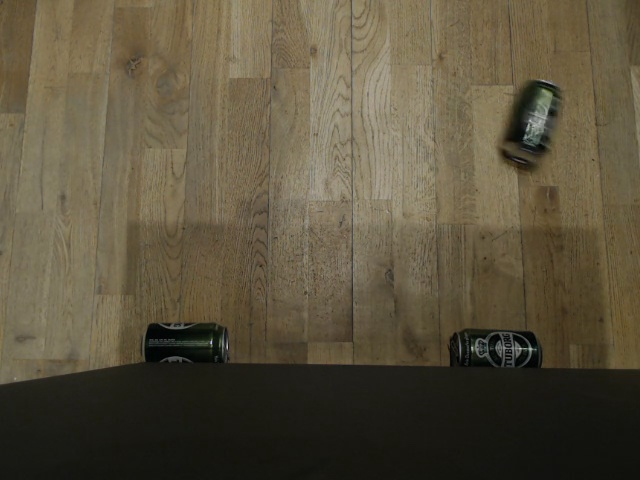beer: (500, 78, 561, 165), (449, 329, 545, 368), (139, 322, 230, 363)
